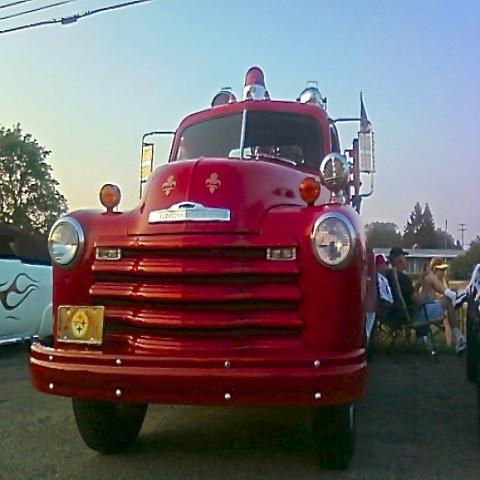car: (1, 220, 55, 344)
truck: (29, 70, 379, 470), (0, 221, 54, 348)
